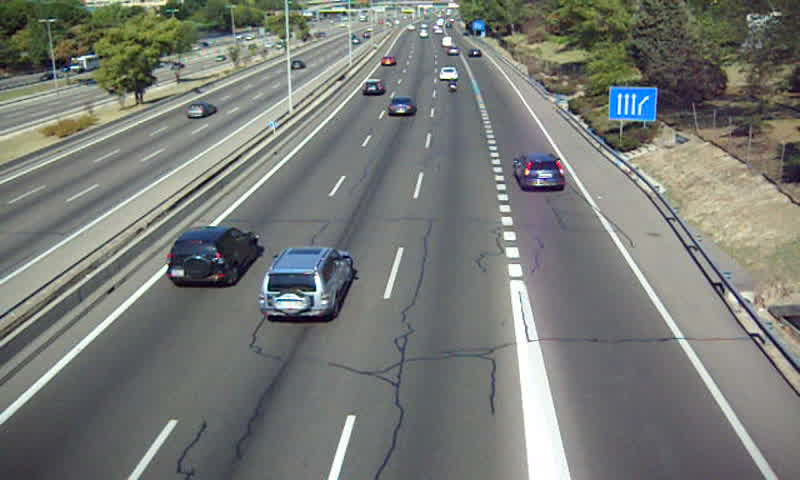car: (261, 249, 352, 322), (166, 228, 258, 289), (514, 154, 567, 190), (386, 97, 417, 118), (362, 78, 387, 97), (438, 66, 459, 80), (380, 55, 399, 67)
motorcycle: (447, 79, 459, 94)
